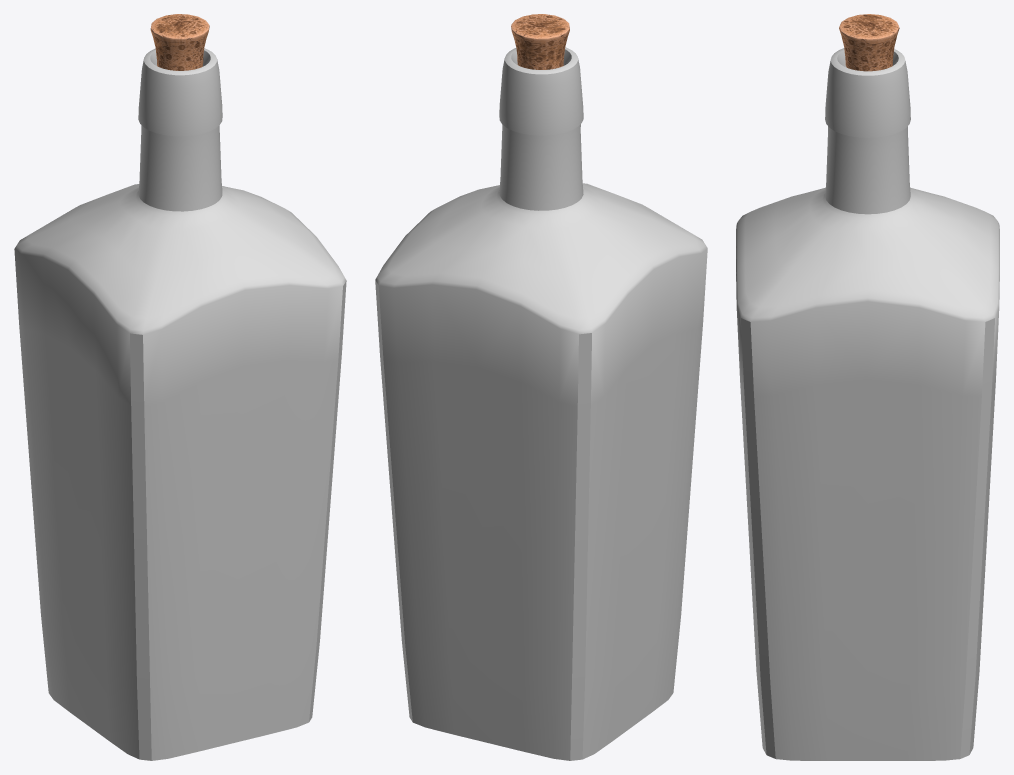
File: Bottle_A.fbx
3 renders of one model, left to right at view 1: azimuth 30°, elevation 25°; view 2: azimuth 150°, elevation 25°; view 3: azimuth 270°, elevation 25°, orthographic.
Parts seen in each view (by area): view 1: Bottle_00; view 2: Bottle_00; view 3: Bottle_00.
Part boxes in pixels (x1=…): Bottle_00: x1=14, y1=14, x2=346, y2=760; Bottle_00: x1=375, y1=14, x2=707, y2=760; Bottle_00: x1=736, y1=14, x2=999, y2=760.
Size of the model in its own units: 55.13 by 159 by 55.13.
